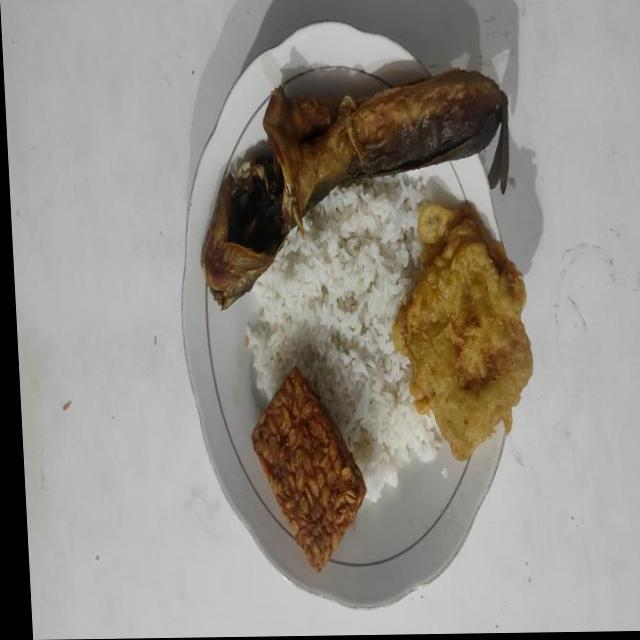nasi_putih: (247, 174, 442, 502)
tempe_goreng: (252, 366, 366, 571)
